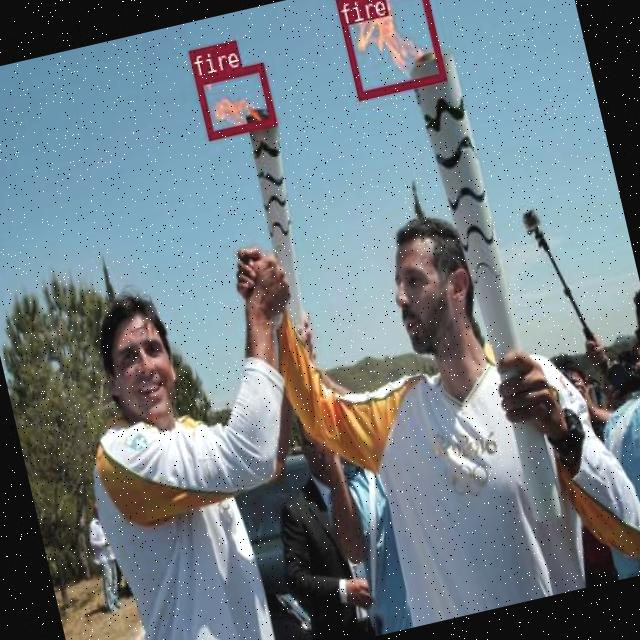fire: (334, 0, 445, 98), (194, 61, 276, 138)
